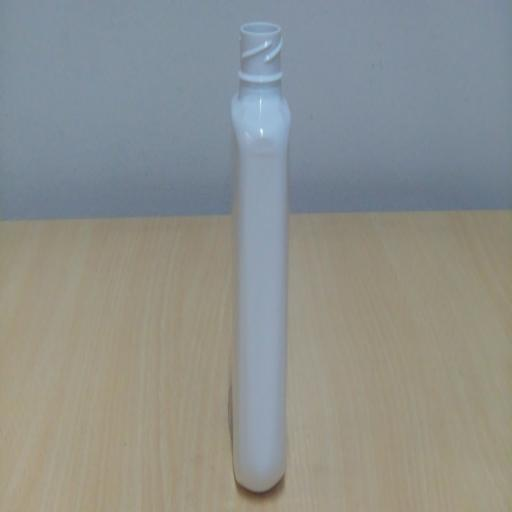Bad: (221, 10, 303, 507)
